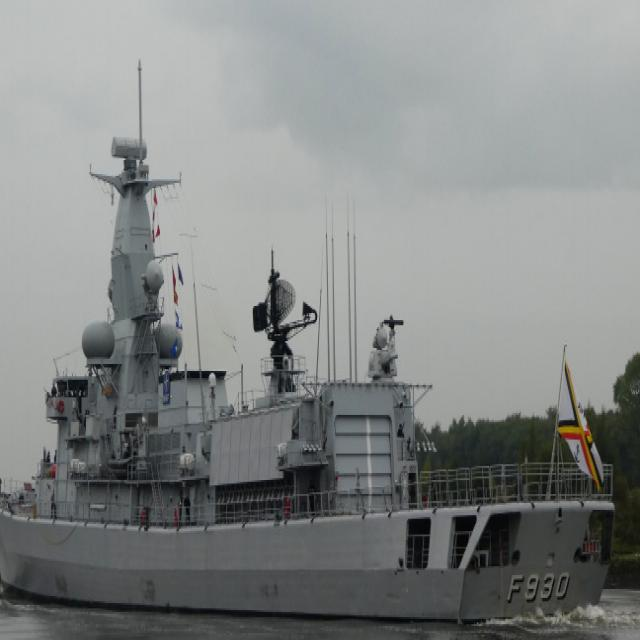Fragata: (1, 34, 619, 632)
